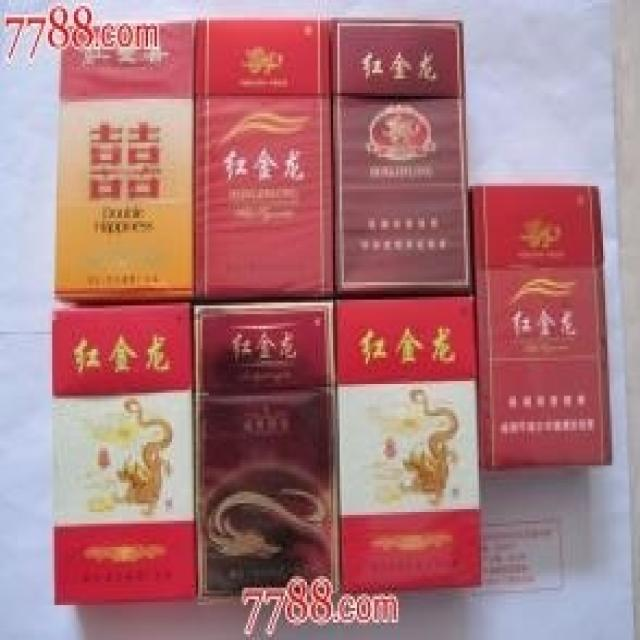box: (333, 291, 483, 596), (54, 303, 196, 608), (194, 300, 337, 602), (470, 183, 612, 471), (52, 20, 194, 305), (194, 17, 335, 300), (331, 17, 472, 297)
